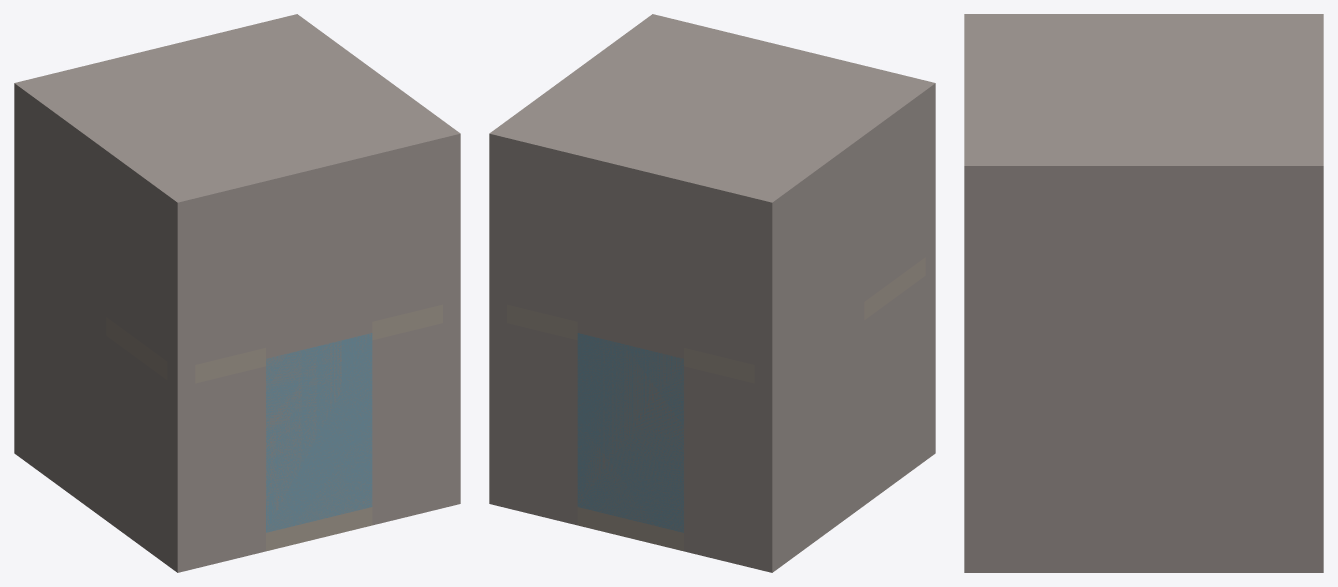
Rendered from creek.glb.
The picture shows the model from 3 angles, left to right: view 1: azimuth 30°, elevation 25°; view 2: azimuth 150°, elevation 25°; view 3: azimuth 270°, elevation 25°; orthographic projection. The views are drawn at different scales.
Parts seen in each view (by area): view 1: rock_19, plug_creek_south, rock_1, water_1, rock_12, rock_9, plug_creek_south.001, plug_west, rock_7, rock_10, rock_11, rock_8 (+11 smaller); view 2: rock_19, plug_creek_north, rock_1, water_1, rock_12, rock_5, rock_6, plug_creek_north.001, rock_9, plug_west, rock_16, rock_2 (+8 smaller); view 3: rock_2, rock_19, rock_13.
Boxes of the visible parts, bbox=[...] form: rock_19: bbox=[14, 14, 460, 220]; plug_creek_south: bbox=[195, 175, 442, 364]; rock_1: bbox=[14, 250, 106, 520]; water_1: bbox=[266, 333, 372, 532]; rock_12: bbox=[14, 102, 106, 316]; rock_9: bbox=[106, 336, 167, 564]; plug_creek_south.001: bbox=[266, 322, 372, 532]; plug_west: bbox=[106, 206, 167, 361]; rock_7: bbox=[195, 375, 230, 568]; rock_10: bbox=[230, 366, 265, 559]; rock_11: bbox=[407, 323, 442, 516]; rock_8: bbox=[372, 332, 407, 525]; rock_19: bbox=[489, 14, 935, 220]; plug_creek_north: bbox=[507, 175, 754, 364]; rock_1: bbox=[754, 302, 864, 572]; water_1: bbox=[577, 333, 683, 532]; rock_12: bbox=[754, 154, 864, 369]; rock_5: bbox=[684, 366, 754, 568]; rock_6: bbox=[507, 323, 577, 525]; plug_creek_north.001: bbox=[577, 322, 683, 531]; rock_9: bbox=[864, 276, 925, 505]; plug_west: bbox=[864, 146, 925, 301]; rock_16: bbox=[507, 156, 754, 235]; rock_2: bbox=[489, 300, 506, 507]; rock_2: bbox=[964, 349, 1323, 572]; rock_19: bbox=[964, 14, 1323, 186]; rock_13: bbox=[964, 186, 1323, 348].
Size of the model in its own units: 8 by 10 by 8.
